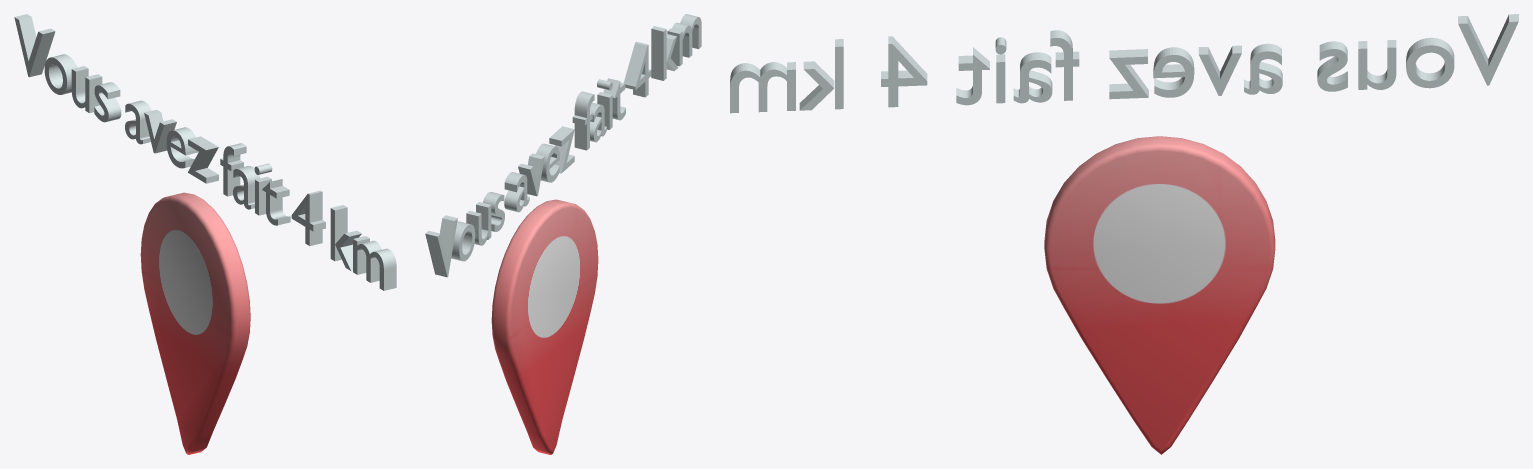
The model's file is REPERE_AR.glb.
3 views of the same model, side by side, from view 1: azimuth 30°, elevation 25°; view 2: azimuth 150°, elevation 25°; view 3: azimuth 270°, elevation 25° (orthographic). The views are drawn at different scales.
Parts seen in each view (by area): view 1: Point_Depart.001, Text; view 2: Point_Depart.001, Text; view 3: Point_Depart.001, Text.
Part boxes in pixels (box(x1,y1,x2,y2)): Point_Depart.001: box(140, 192, 250, 454); Text: box(14, 14, 396, 290); Point_Depart.001: box(491, 199, 598, 454); Text: box(425, 14, 701, 277); Point_Depart.001: box(1044, 136, 1275, 454); Text: box(730, 14, 1518, 113).
Bounding box in the file's own units: 0.0461 × 0.2436 × 0.4176.
Materials: 2 (1 with a texture image).
